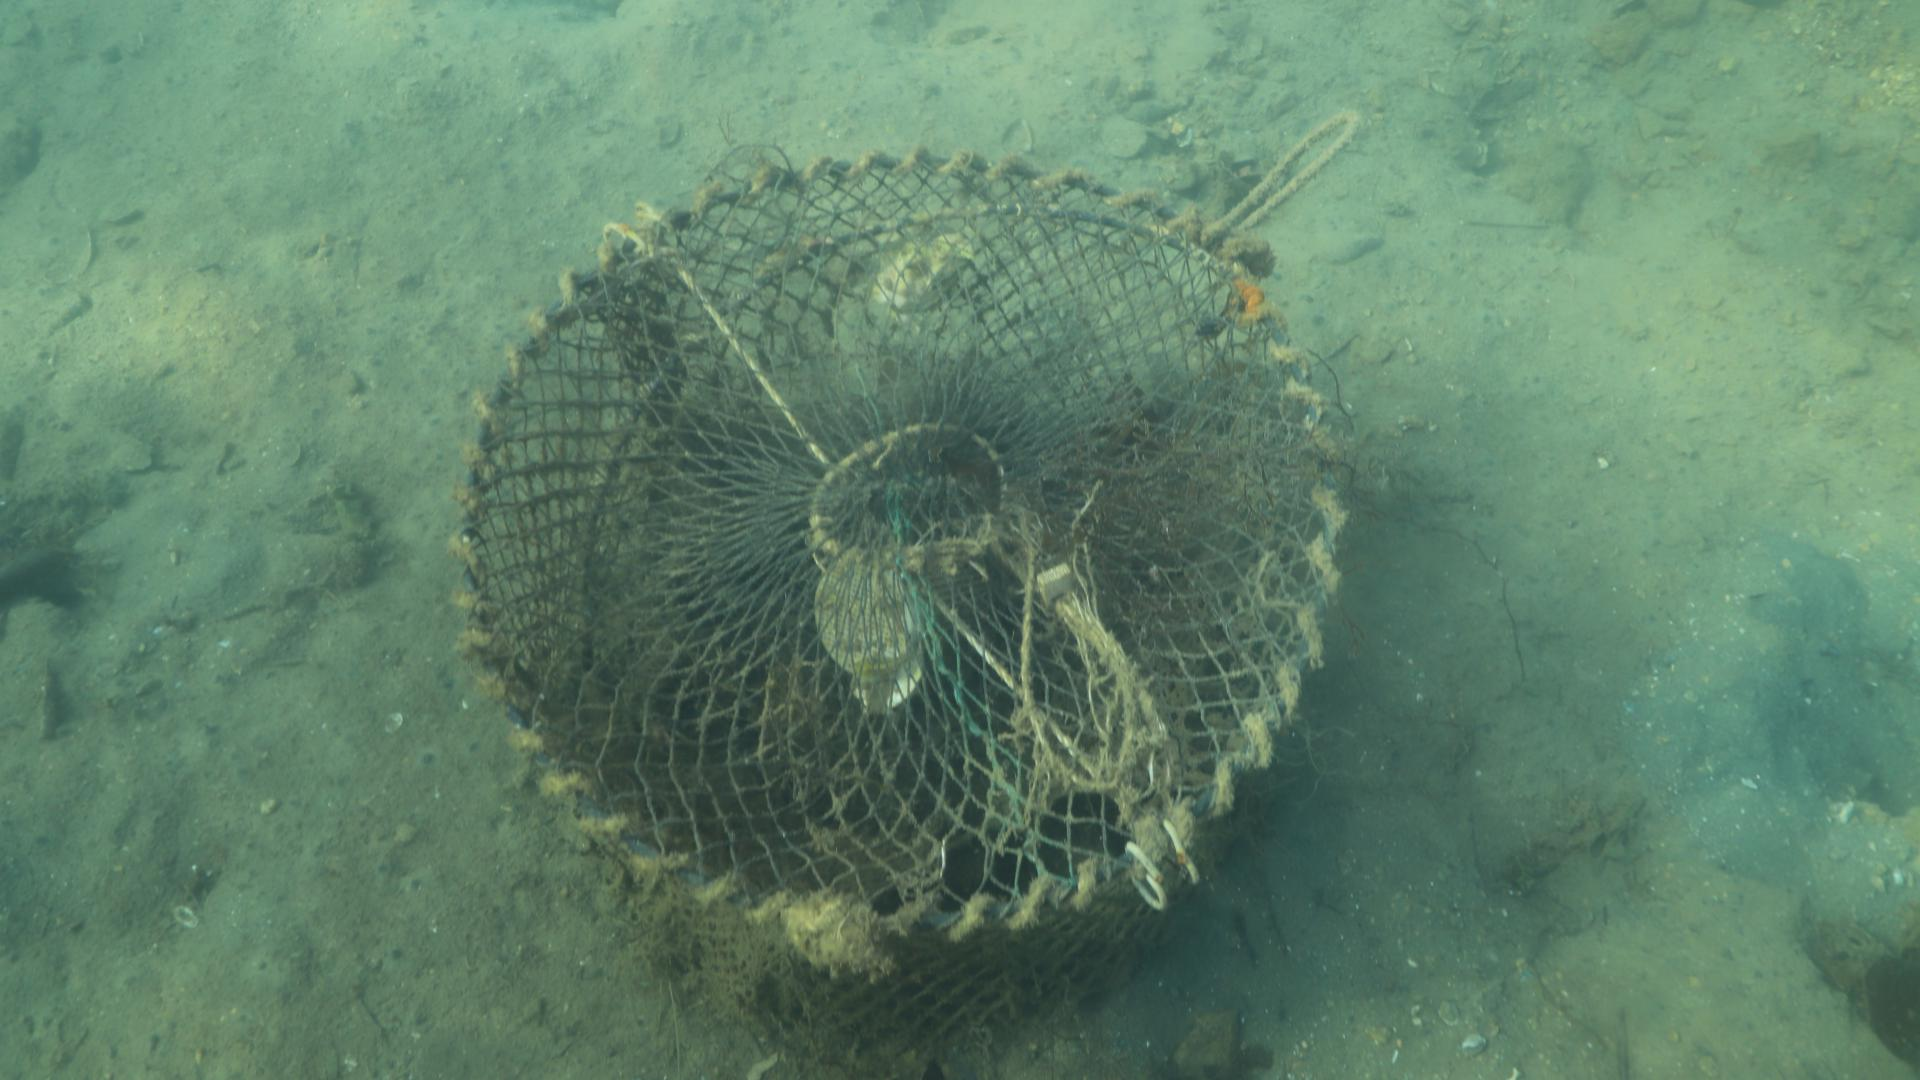circular fish trap: (456, 149, 1344, 1067)
rope: (1204, 113, 1360, 229)
